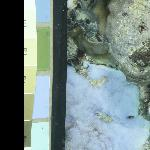alive: (53, 8, 146, 147)
